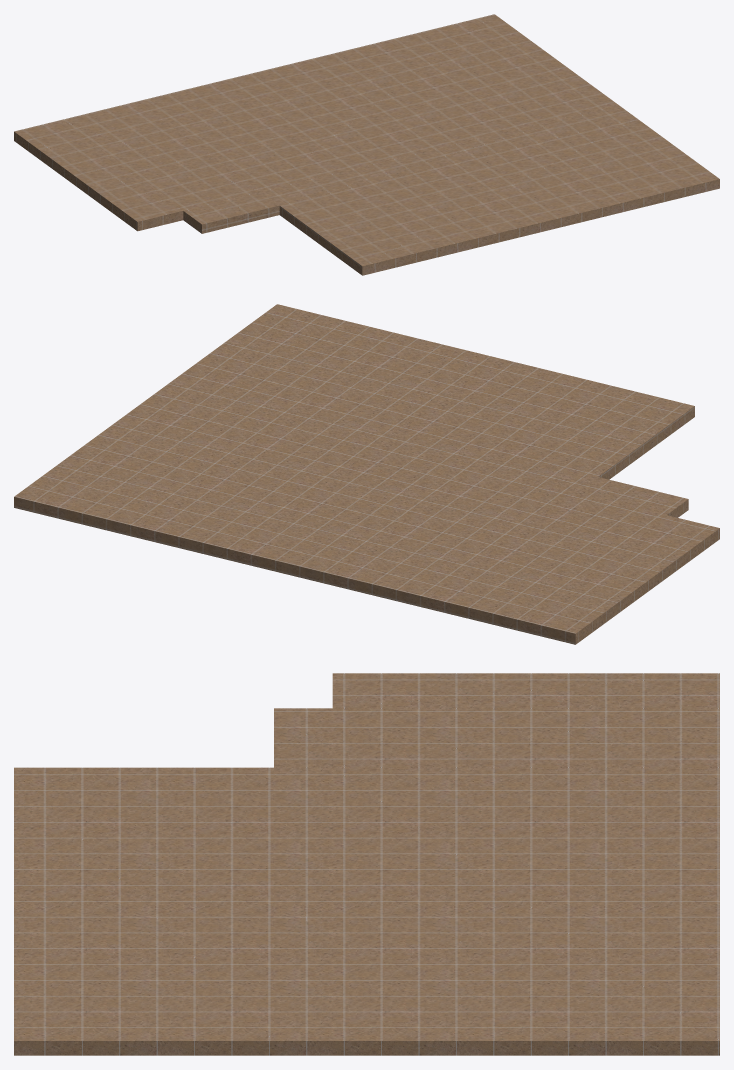
The model's file is pisoMedio.glb.
3 renders of one model, top to bottom at view 1: azimuth 30°, elevation 25°; view 2: azimuth 150°, elevation 25°; view 3: azimuth 270°, elevation 25°, orthographic. The views are drawn at different scales.
Visible parts, largest first — view 1: piso oficinas; view 2: piso oficinas; view 3: piso oficinas.
Part boxes in pixels (<box>): piso oficinas: <box>14,14,719,275</box>; piso oficinas: <box>14,304,719,644</box>; piso oficinas: <box>14,673,719,1055</box>.
Bounding box in the file's own units: 266 × 5 × 216.
1 material, 1 textured.
